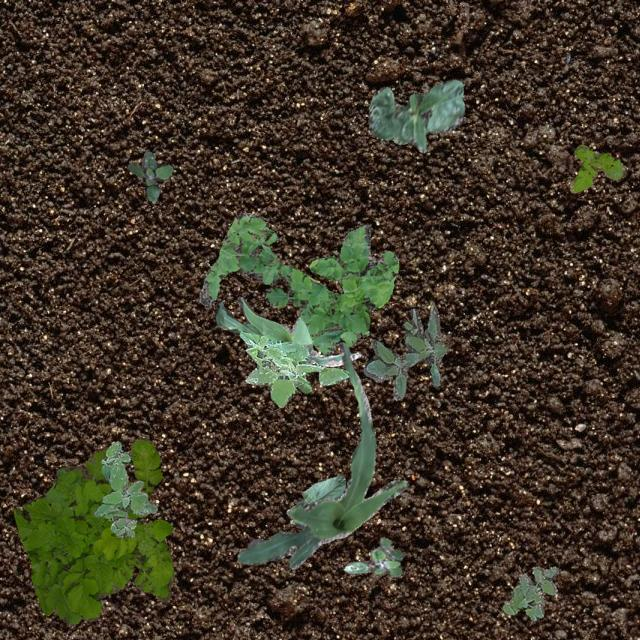crop: (237, 340, 408, 568), (213, 296, 359, 366), (368, 78, 463, 152), (286, 474, 344, 524)
weed: (12, 436, 174, 624), (198, 212, 398, 352), (238, 331, 348, 406), (362, 304, 447, 400), (94, 441, 156, 536), (502, 566, 558, 620), (568, 144, 622, 192), (342, 536, 402, 576), (126, 150, 172, 202)
